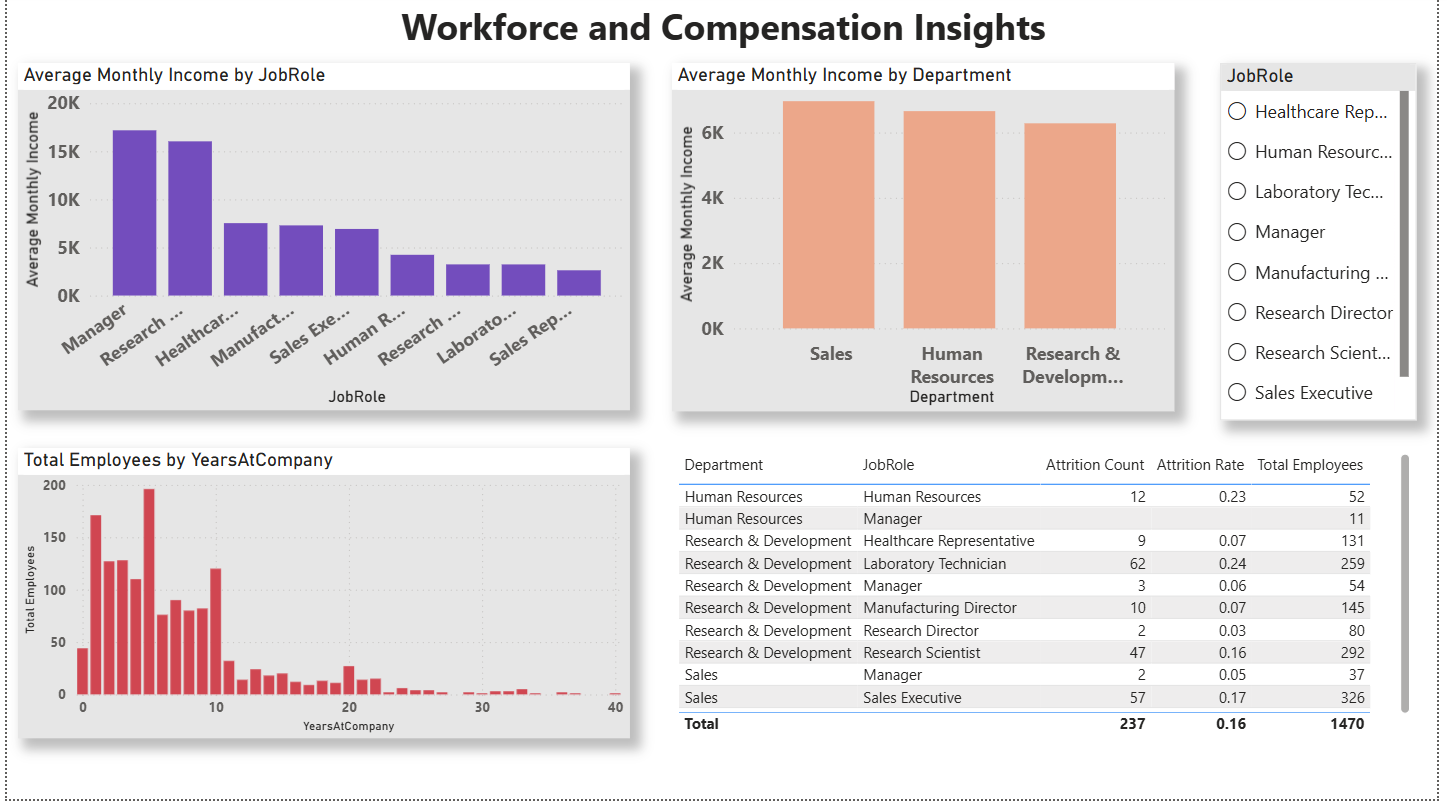

The page's visual inventory and layout, read from the dashboard file:
{"tool":"powerbi","page":{"name":"Workforce & Compensation Insights","canvas":[1280,720],"ordinal":2},"visuals":[{"type":"textbox","box":[9.7,0,1263.5,61.3],"z":0},{"type":"columnChart","fields":{"Category":["WA_Fn-UseC_-HR-Employee-Attrition.JobRole"],"Y":["WA_Fn-UseC_-HR-Employee-Attrition.Average Monthly Income"]},"box":[9.7,61.3,547.6,311.2],"z":1000},{"type":"clusteredColumnChart","fields":{"Category":["WA_Fn-UseC_-HR-Employee-Attrition.Department"],"Y":["WA_Fn-UseC_-HR-Employee-Attrition.Average Monthly Income"]},"box":[595.5,60.9,450.4,311.6],"z":2000},{"type":"columnChart","fields":{"Y":["WA_Fn-UseC_-HR-Employee-Attrition.Total Employees"],"Category":["WA_Fn-UseC_-HR-Employee-Attrition.YearsAtCompany"]},"box":[9.7,405.6,547.6,259.7],"z":3000},{"type":"tableEx","fields":{"Values":["WA_Fn-UseC_-HR-Employee-Attrition.Department","WA_Fn-UseC_-HR-Employee-Attrition.JobRole","WA_Fn-UseC_-HR-Employee-Attrition.Attrition Count","WA_Fn-UseC_-HR-Employee-Attrition.Attrition Rate","WA_Fn-UseC_-HR-Employee-Attrition.Total Employees"]},"box":[595.3,405.6,666.3,260.7],"z":4000},{"type":"listSlicer","fields":{"Values":["WA_Fn-UseC_-HR-Employee-Attrition.JobRole"]},"box":[1086.3,60.9,175.5,319.7],"z":4001}]}

Visuals, with their boxes in screenshot pixels (x1, y1, x2, y2), scaled from the page's 1280x720 canvas onto the 1447x806 screenshot:
textbox: <region>11, 0, 1439, 69</region>
columnChart - WA_Fn-UseC_-HR-Employee-Attrition.JobRole x WA_Fn-UseC_-HR-Employee-Attrition.Average Monthly Income: <region>11, 69, 630, 417</region>
clusteredColumnChart - WA_Fn-UseC_-HR-Employee-Attrition.Department x WA_Fn-UseC_-HR-Employee-Attrition.Average Monthly Income: <region>673, 68, 1182, 417</region>
columnChart - WA_Fn-UseC_-HR-Employee-Attrition.Total Employees x WA_Fn-UseC_-HR-Employee-Attrition.YearsAtCompany: <region>11, 454, 630, 745</region>
tableEx - WA_Fn-UseC_-HR-Employee-Attrition.Department x WA_Fn-UseC_-HR-Employee-Attrition.JobRole: <region>673, 454, 1426, 746</region>
listSlicer - WA_Fn-UseC_-HR-Employee-Attrition.JobRole: <region>1228, 68, 1426, 426</region>
